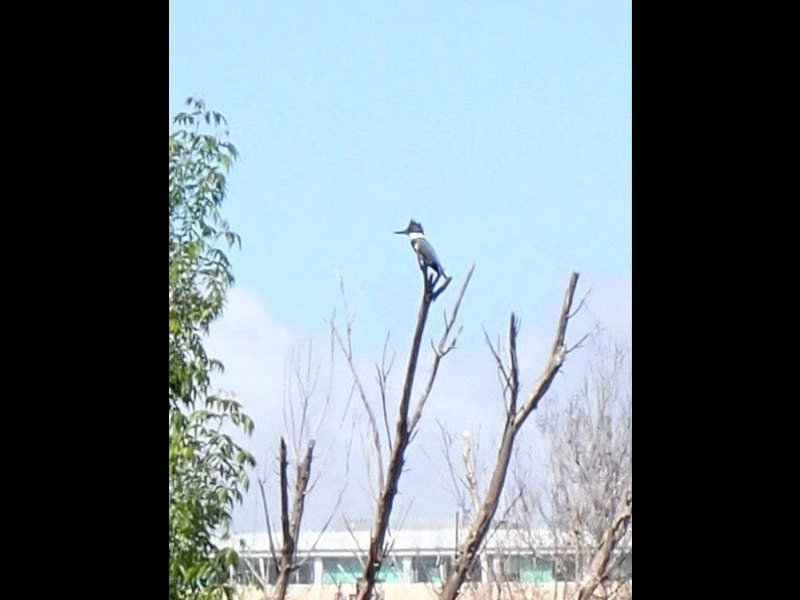kingfisher: (396, 220, 448, 285)
